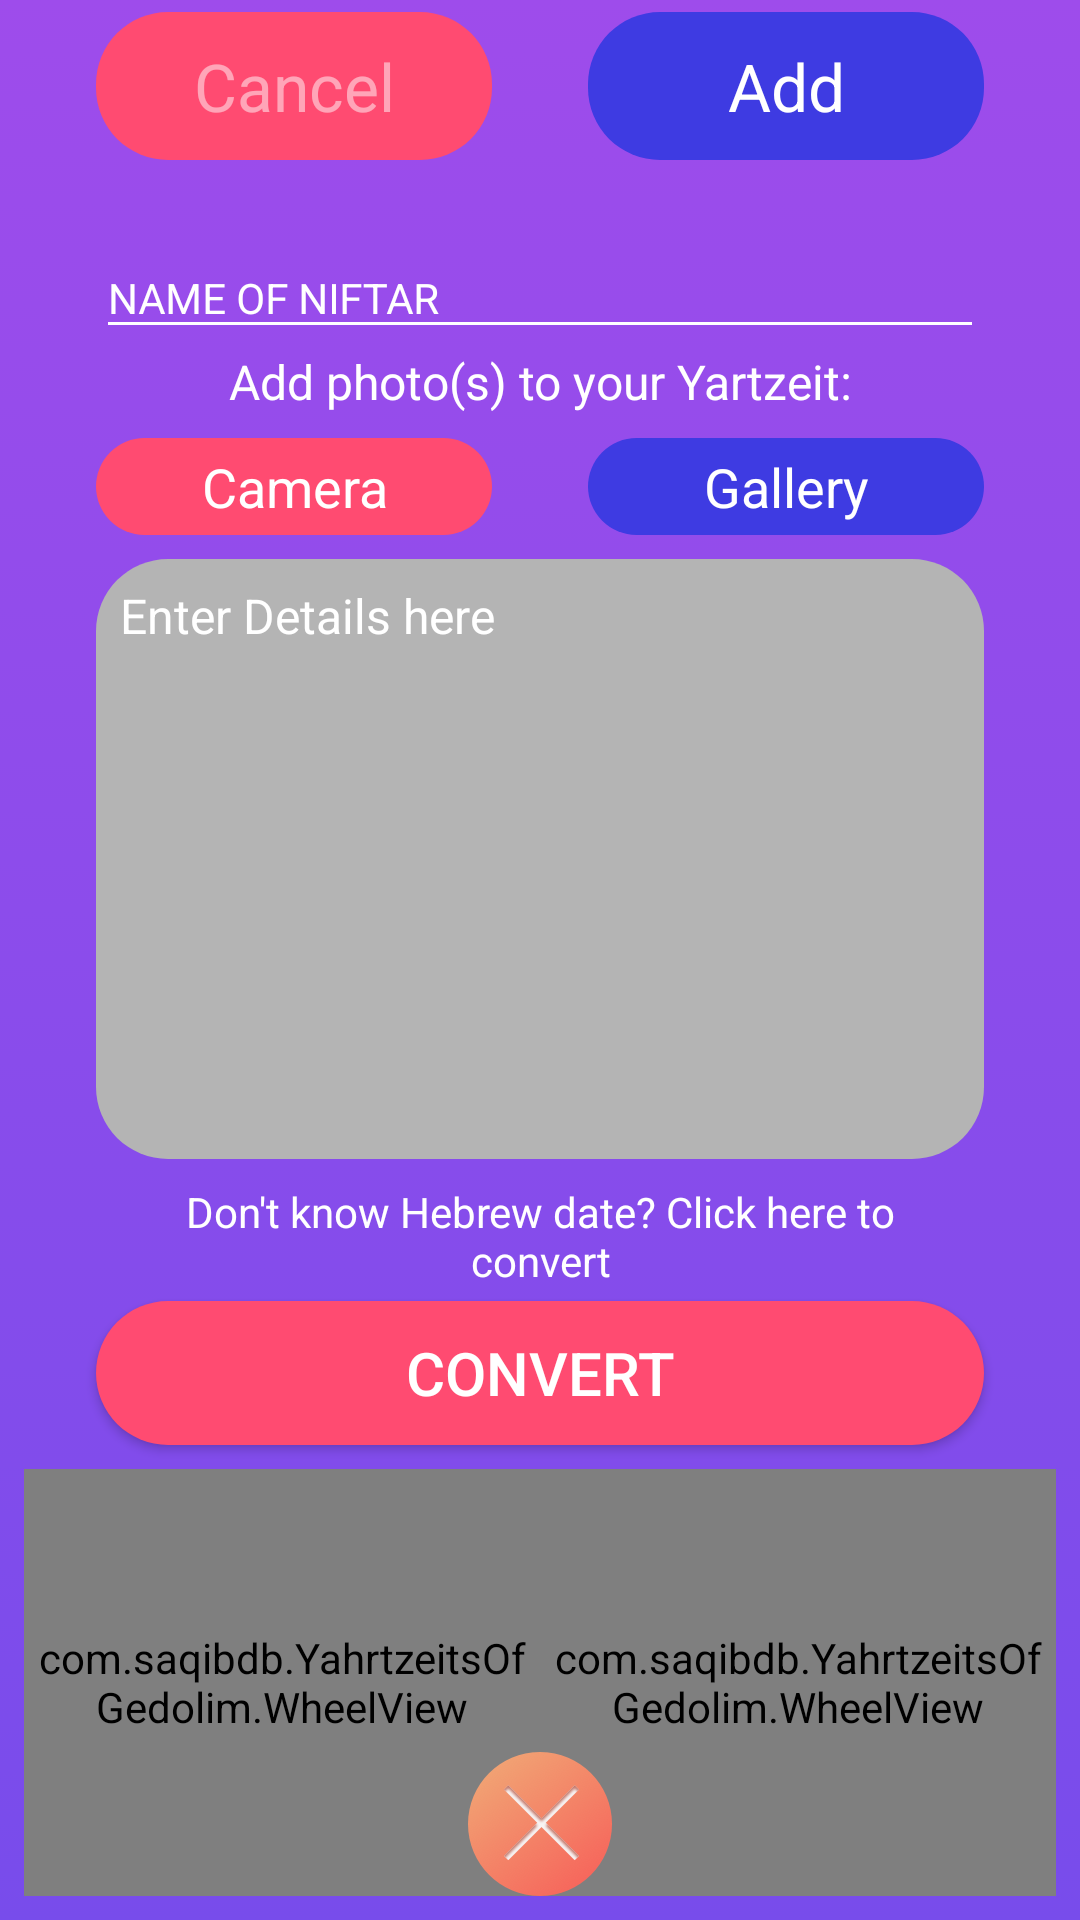

Screen size 1080px×1920px. Icon name, then its center in pixels as (x,y):
close: (540,1824)
